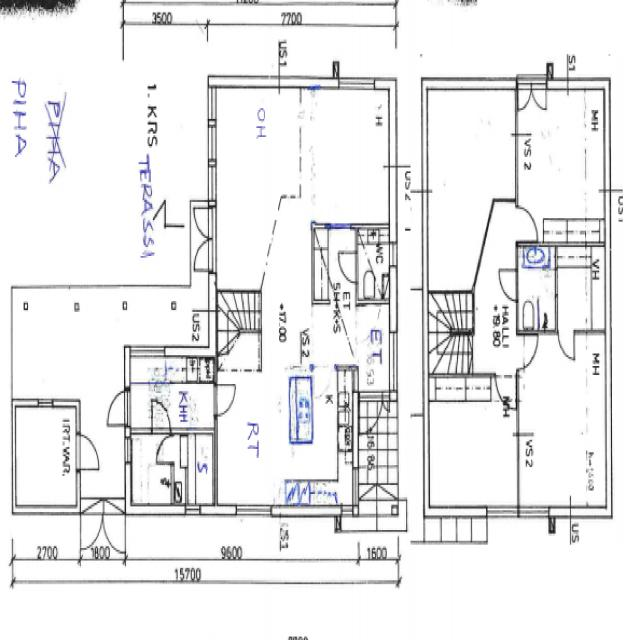door: (96, 494, 129, 560), (78, 500, 112, 557), (512, 198, 541, 244), (74, 428, 102, 474), (104, 385, 132, 429), (495, 263, 522, 305), (358, 393, 382, 438), (212, 378, 238, 419), (517, 328, 541, 372), (191, 233, 215, 274), (494, 368, 518, 408), (526, 75, 550, 115), (191, 199, 214, 240), (336, 247, 360, 285), (312, 362, 334, 402), (154, 432, 179, 467), (556, 326, 578, 364), (150, 398, 172, 436), (515, 76, 534, 114), (195, 17, 210, 41)
window: (285, 503, 338, 524), (232, 498, 274, 522), (484, 500, 519, 523), (336, 71, 376, 91), (517, 501, 549, 525), (182, 500, 205, 520), (389, 239, 399, 272), (36, 394, 55, 410)
zone: (424, 82, 515, 292), (128, 22, 212, 222), (516, 329, 607, 512), (213, 83, 291, 295), (515, 83, 608, 243), (215, 367, 316, 510), (7, 285, 121, 404), (426, 375, 518, 514), (306, 84, 393, 228), (13, 402, 78, 512), (128, 356, 218, 433), (121, 285, 214, 350), (555, 242, 607, 332), (127, 434, 181, 509), (516, 242, 558, 334), (356, 300, 392, 394), (175, 430, 215, 510), (357, 230, 393, 302), (290, 369, 313, 446)
